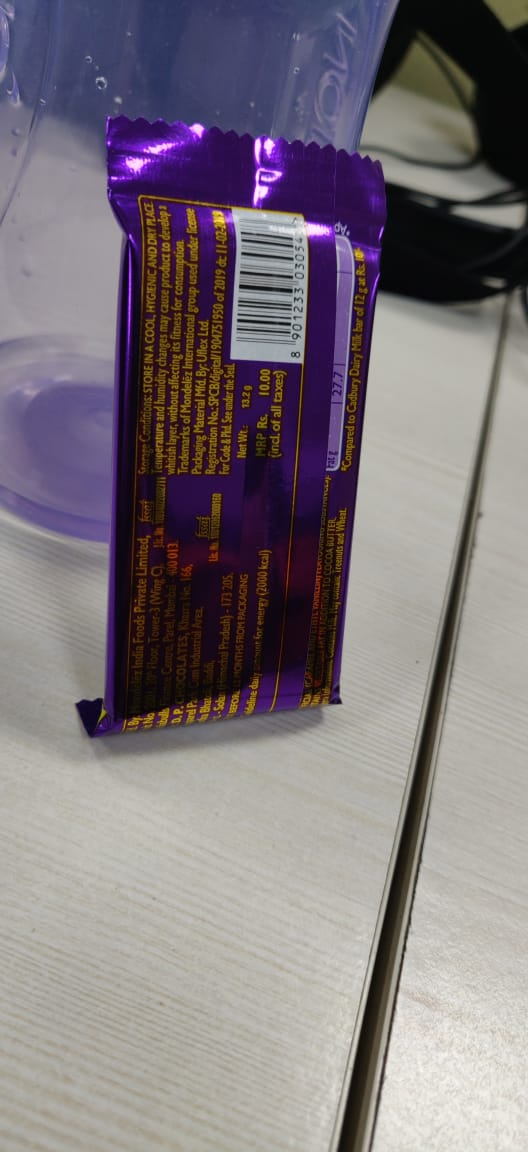dairy milk: (76, 106, 403, 763)
